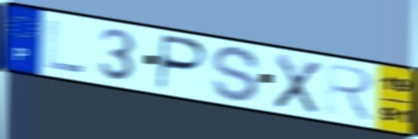3: (97, 28, 141, 83)
L: (46, 18, 86, 76)
P: (154, 33, 210, 93)
R: (323, 60, 377, 125)
S: (210, 44, 264, 105)
X: (271, 51, 324, 117)
